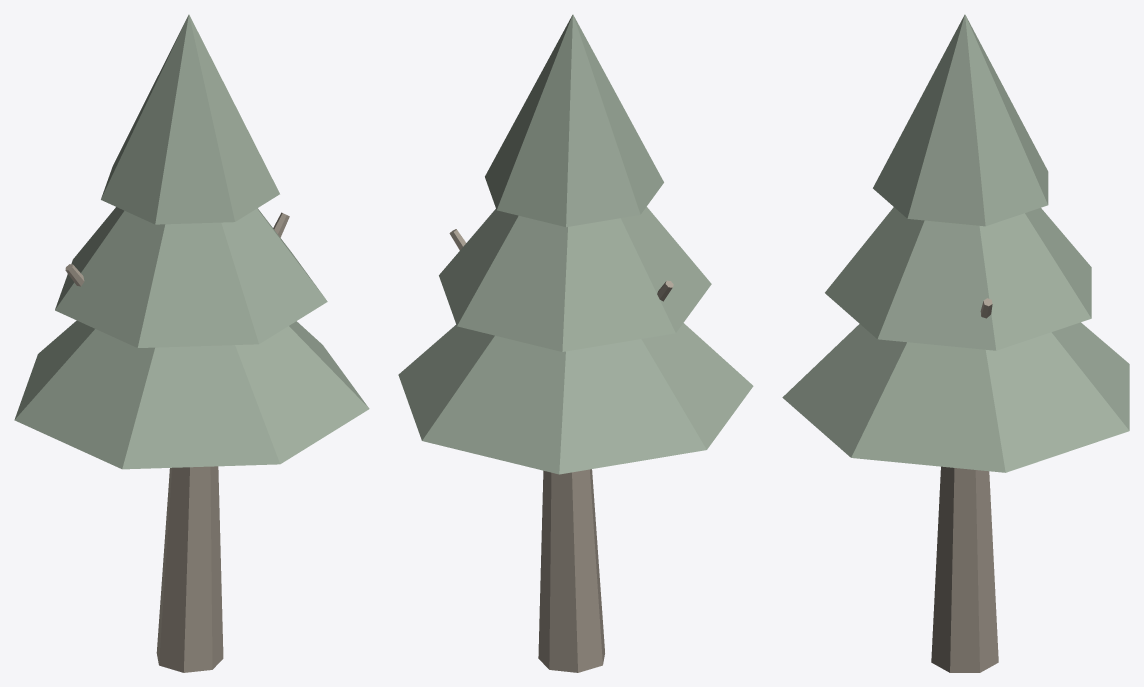
The model's file is SM_ENV_Tree_01_Pine.glb.
The picture shows the model from 3 angles, left to right: view 1: azimuth 30°, elevation 25°; view 2: azimuth 150°, elevation 25°; view 3: azimuth 270°, elevation 25°; orthographic projection.
Visible parts, largest first — view 1: SM_ENV_Tree_01_Pine; view 2: SM_ENV_Tree_01_Pine; view 3: SM_ENV_Tree_01_Pine.
Part boxes in pixels (x1=…): SM_ENV_Tree_01_Pine: x1=14, y1=14, x2=369, y2=672; SM_ENV_Tree_01_Pine: x1=398, y1=14, x2=753, y2=672; SM_ENV_Tree_01_Pine: x1=782, y1=14, x2=1129, y2=672.
Size of the model in its own units: 1.85 by 3.7 by 1.81.
